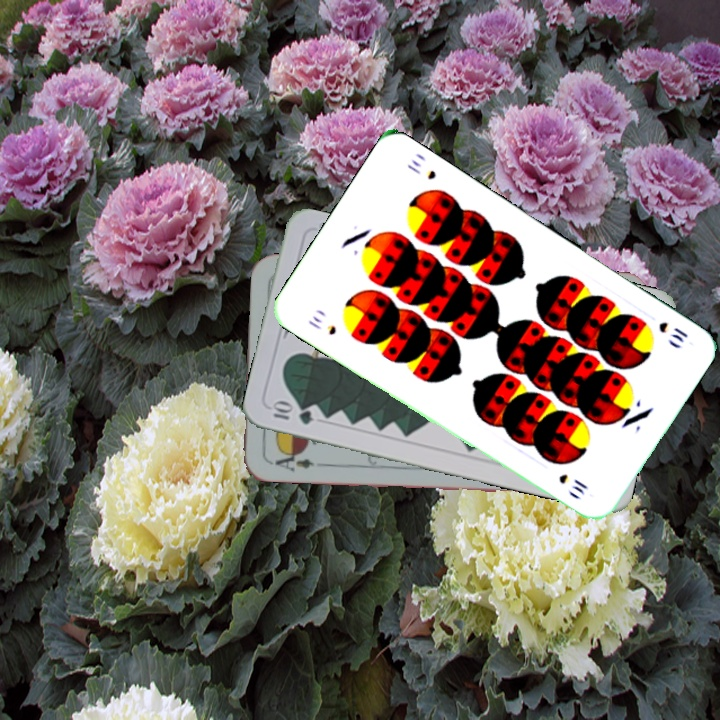EA: (266, 447, 317, 475)
G10: (267, 398, 316, 427)
S10: (654, 317, 691, 345), (304, 311, 339, 338)
